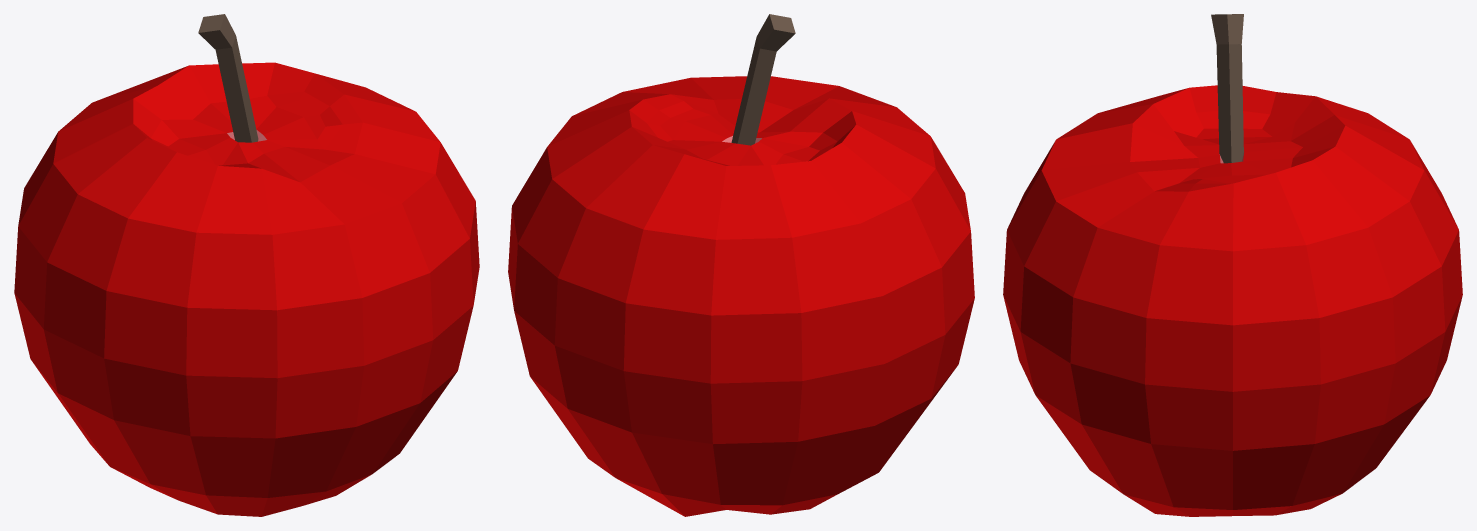
File: Apple.fbx
The picture shows the model from 3 angles, left to right: view 1: azimuth 30°, elevation 25°; view 2: azimuth 150°, elevation 25°; view 3: azimuth 270°, elevation 25°; orthographic projection. The views are drawn at different scales.
Visible parts, largest first — view 1: Apple; view 2: Apple; view 3: Apple.
Part boxes in pixels (x1,y1,x2,y2): Apple: (14, 14, 479, 516); Apple: (508, 14, 974, 516); Apple: (1003, 14, 1462, 516).
Bounding box in the file's own units: 44 × 48.15 × 44.
